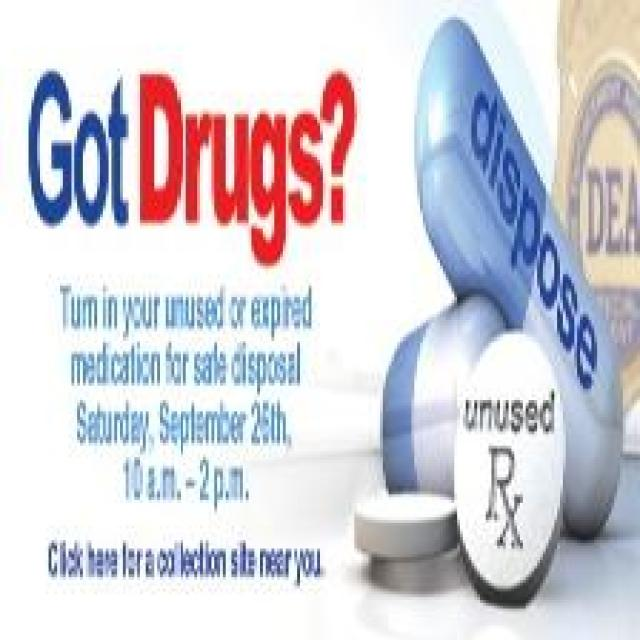Medicine: (361, 12, 611, 634)
